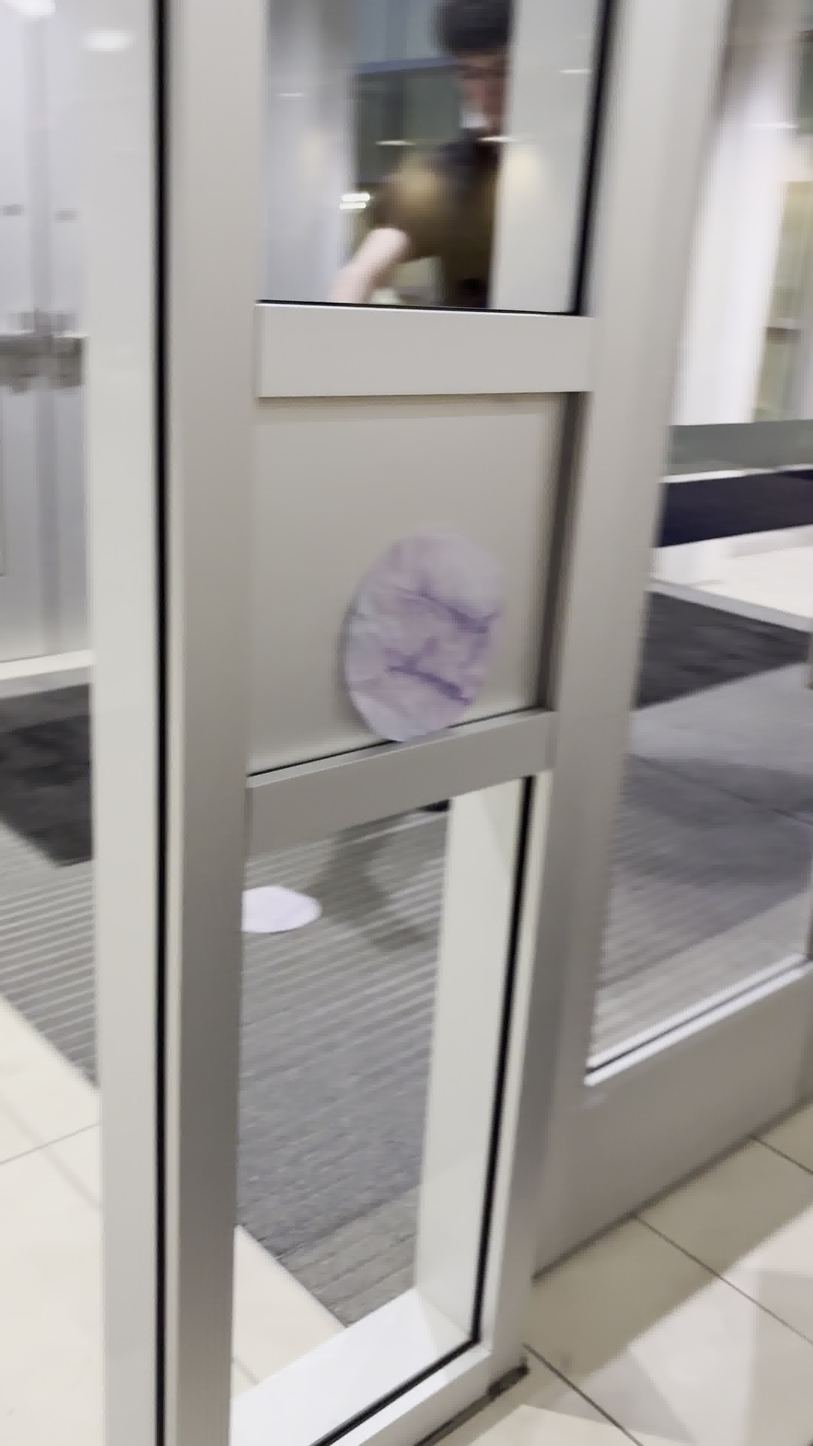Target: (339, 529, 506, 746)
